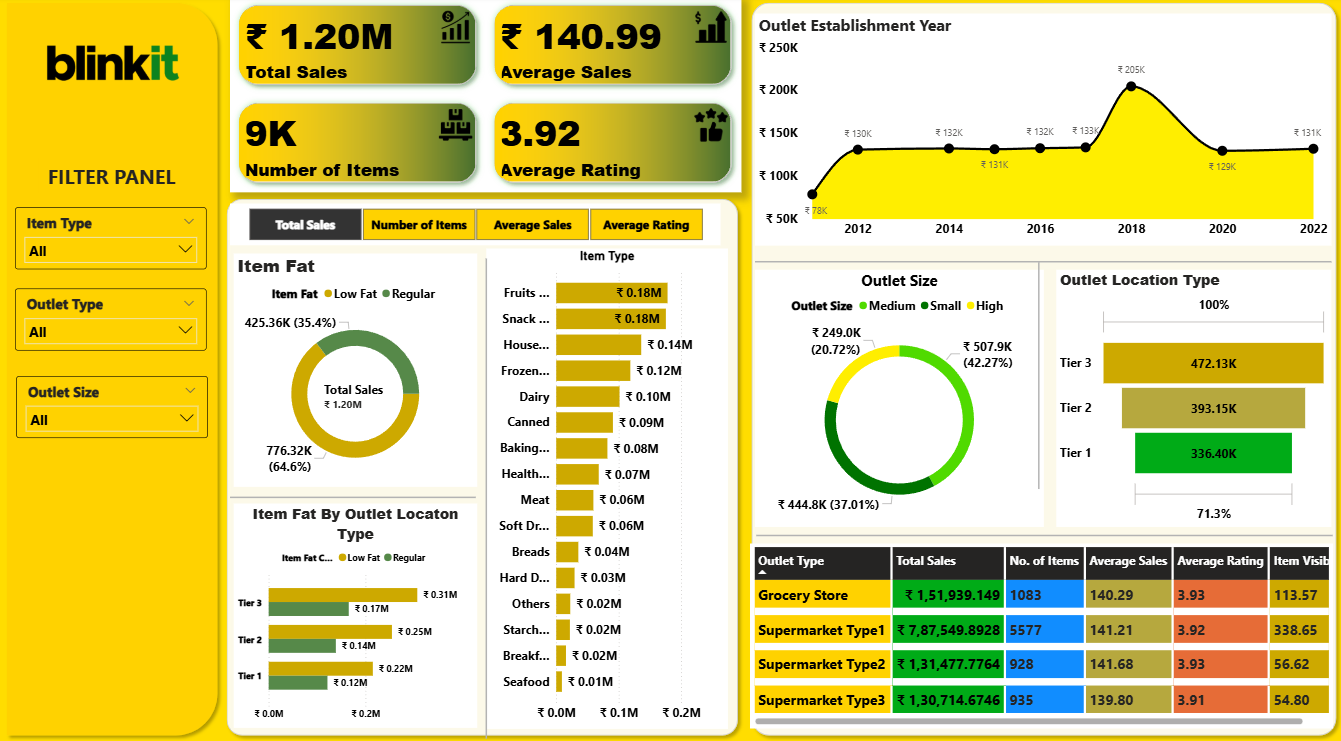

What the dashboard file says about the page in this screenshot:
{"tool":"powerbi","page":{"name":"Page 1","canvas":[1800,1000],"ordinal":0},"visuals":[{"type":"shape","box":[0,0,300.6,1000.3],"z":0},{"type":"cardVisual","fields":{"Data":["BlinkIT Grocery Data.Total Sales","BlinkIT Grocery Data.Average Sales","BlinkIT Grocery Data.Number of Items","BlinkIT Grocery Data.Average Rating"]},"box":[308.3,0,685.3,263.1],"z":1000},{"type":"shape","box":[295.5,263.2,703.1,737.1],"z":2000},{"type":"donutChart","title":"Item Fat","fields":{"Y":["BlinkIT Grocery Data.Total Sales"],"Category":["BlinkIT Grocery Data.Item Fat Content"]},"box":[312.5,344.8,326.1,312.5],"z":3000},{"type":"slicer","fields":{"Values":["Metrics.Metrics"]},"box":[309.1,278.5,657.3,56],"z":4000},{"type":"cardVisual","fields":{"Data":["BlinkIT Grocery Data.Total Sales"]},"box":[417.8,499.3,115.5,71.3],"z":5000},{"type":"clusteredBarChart","title":"Item Fat By Outlet Locaton Type","fields":{"Y":["BlinkIT Grocery Data.Total Sales"],"Category":["BlinkIT Grocery Data.Outlet Location Type"],"Series":["BlinkIT Grocery Data.Item Fat Content"]},"box":[312.5,681,326.1,300.6],"z":6000},{"type":"shape","box":[309.1,660.7,329.5,23.8],"z":7000},{"type":"barChart","title":"Item Type","fields":{"Y":["BlinkIT Grocery Data.Total Sales"],"Category":["BlinkIT Grocery Data.Item Type"]},"box":[652.2,338,324.4,643.7],"z":8000},{"type":"shape","box":[998.6,0,801.6,1000.3],"z":9000},{"type":"lineChart","title":"Outlet Establishment Year","fields":{"Category":["BlinkIT Grocery Data.Outlet Establishment Year"],"Y":["BlinkIT Grocery Data.Total Sales"]},"box":[1012.2,23.8,772.8,310.8],"z":10000},{"type":"shape","box":[1012.2,344.8,772.8,22.1],"z":11000},{"type":"donutChart","title":"Outlet Size","fields":{"Category":["BlinkIT Grocery Data.Outlet Size"],"Y":["BlinkIT Grocery Data.Total Sales"]},"box":[1012.2,366.8,387.2,344.8],"z":12000},{"type":"shape","box":[645.4,351.6,13.6,643.7],"z":13000},{"type":"funnel","title":"Outlet Location Type","fields":{"Category":["BlinkIT Grocery Data.Outlet Location Type"],"Y":["BlinkIT Grocery Data.Total Sales"]},"box":[1416.4,366.8,368.5,344.8],"z":14000},{"type":"shape","box":[1385.9,356.7,13.6,304],"z":15000},{"type":"tableEx","fields":{"Values":["BlinkIT Grocery Data.Outlet Type","BlinkIT Grocery Data.Total Sales","BlinkIT Grocery Data.Number of Items","BlinkIT Grocery Data.Average Sales","BlinkIT Grocery Data.Average Rating","Sum(BlinkIT Grocery Data.Item Visibility)"]},"box":[1005.4,733.7,781.3,248],"z":16000},{"type":"shape","box":[1013.9,711.6,772.8,22.1],"z":17000},{"type":"slicer","fields":{"Values":["BlinkIT Grocery Data.Item Type"]},"box":[20.4,283.6,256.5,83.2],"z":18000},{"type":"slicer","fields":{"Values":["BlinkIT Grocery Data.Outlet Type"]},"box":[20.4,392.3,256.5,83.2],"z":19000},{"type":"slicer","fields":{"Values":["BlinkIT Grocery Data.Outlet Size"]},"box":[22.1,509.5,256.5,83.2],"z":20000},{"type":"image","box":[0,0,300.6,180],"z":20001},{"type":"textbox","box":[52.6,217.4,195.3,45.9],"z":20002}]}

Visuals, with their boxes in screenshot pixels (x1, y1, x2, y2), scaled from the page's 1800x1000 canvas onto the 1341x741 screenshot:
shape: l=0, t=0, r=224, b=740
cardVisual - BlinkIT Grocery Data.Total Sales x BlinkIT Grocery Data.Average Sales: l=230, t=0, r=740, b=195
shape: l=220, t=195, r=744, b=740
"Item Fat" donutChart: l=233, t=255, r=476, b=487
slicer - Metrics.Metrics: l=230, t=206, r=720, b=248
cardVisual - BlinkIT Grocery Data.Total Sales: l=311, t=370, r=397, b=423
"Item Fat By Outlet Locaton Type" clusteredBarChart: l=233, t=505, r=476, b=727
shape: l=230, t=490, r=476, b=507
"Item Type" barChart: l=486, t=250, r=728, b=727
shape: l=744, t=0, r=1340, b=740
"Outlet Establishment Year" lineChart: l=754, t=18, r=1330, b=248
shape: l=754, t=255, r=1330, b=272
"Outlet Size" donutChart: l=754, t=272, r=1043, b=527
shape: l=481, t=261, r=491, b=738
"Outlet Location Type" funnel: l=1055, t=272, r=1330, b=527
shape: l=1032, t=264, r=1043, b=490
tableEx - BlinkIT Grocery Data.Outlet Type x BlinkIT Grocery Data.Total Sales: l=749, t=544, r=1331, b=727
shape: l=755, t=527, r=1331, b=544
slicer - BlinkIT Grocery Data.Item Type: l=15, t=210, r=206, b=272
slicer - BlinkIT Grocery Data.Outlet Type: l=15, t=291, r=206, b=352
slicer - BlinkIT Grocery Data.Outlet Size: l=16, t=378, r=208, b=439
image: l=0, t=0, r=224, b=133
textbox: l=39, t=161, r=185, b=195
